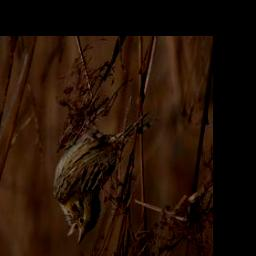Sparrow: (52, 110, 161, 246)
